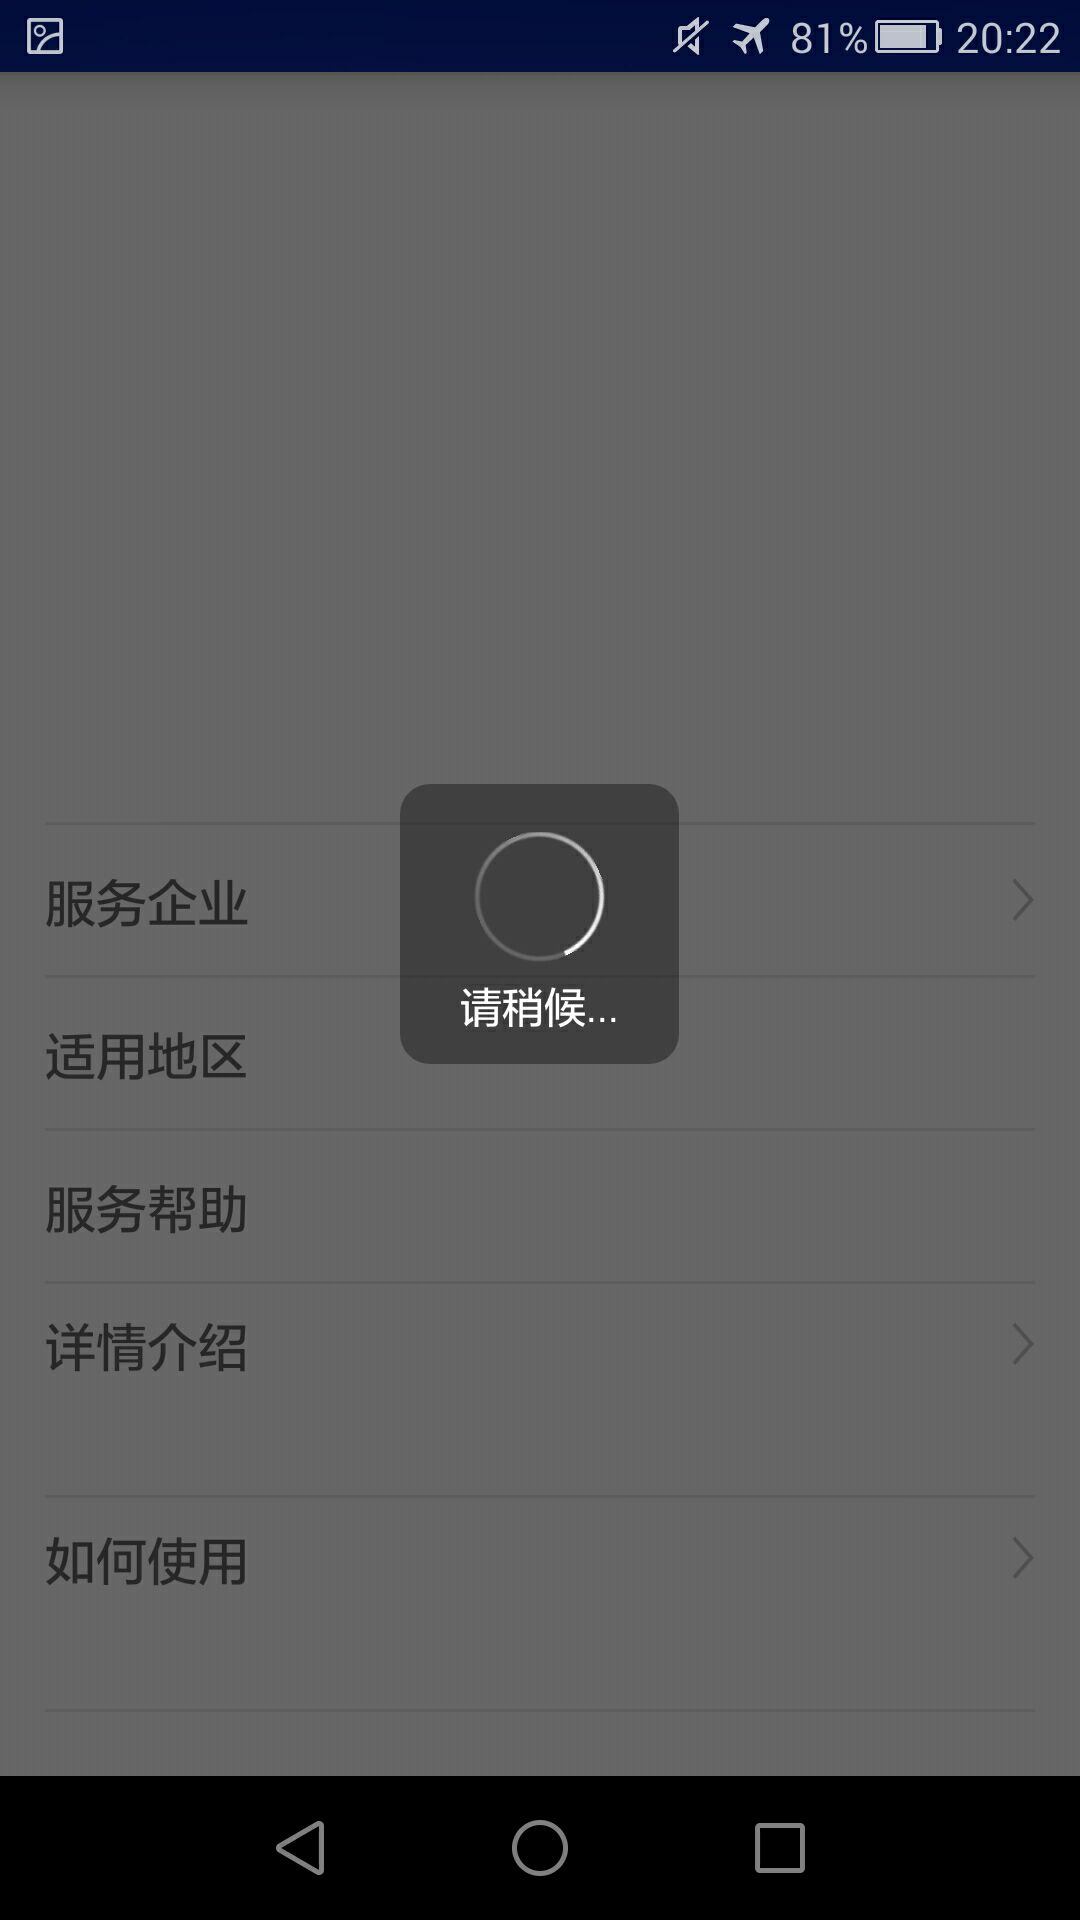alert: (390, 764, 688, 1073)
